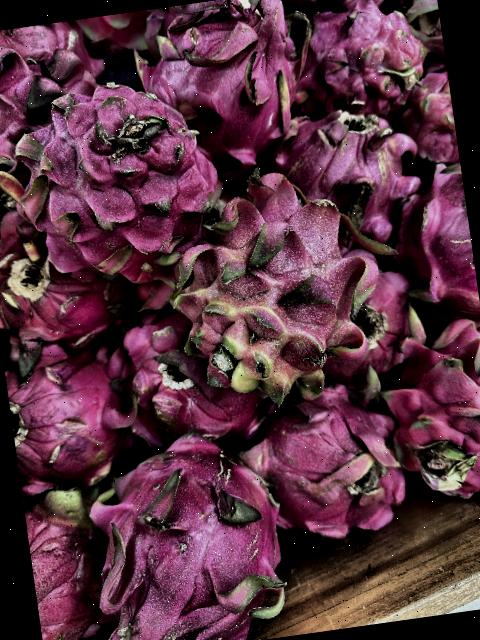buah-naga-belum-matang: (165, 165, 384, 412)
buah-naga-matang: (6, 62, 231, 285), (73, 433, 300, 640), (120, 0, 310, 184), (240, 374, 414, 540), (106, 300, 272, 461), (0, 320, 145, 496), (268, 95, 426, 252), (0, 187, 129, 357), (392, 316, 480, 513), (294, 0, 429, 116), (380, 170, 480, 318), (22, 486, 116, 640), (325, 252, 432, 377), (0, 48, 72, 205), (0, 17, 107, 99), (397, 68, 460, 168)
